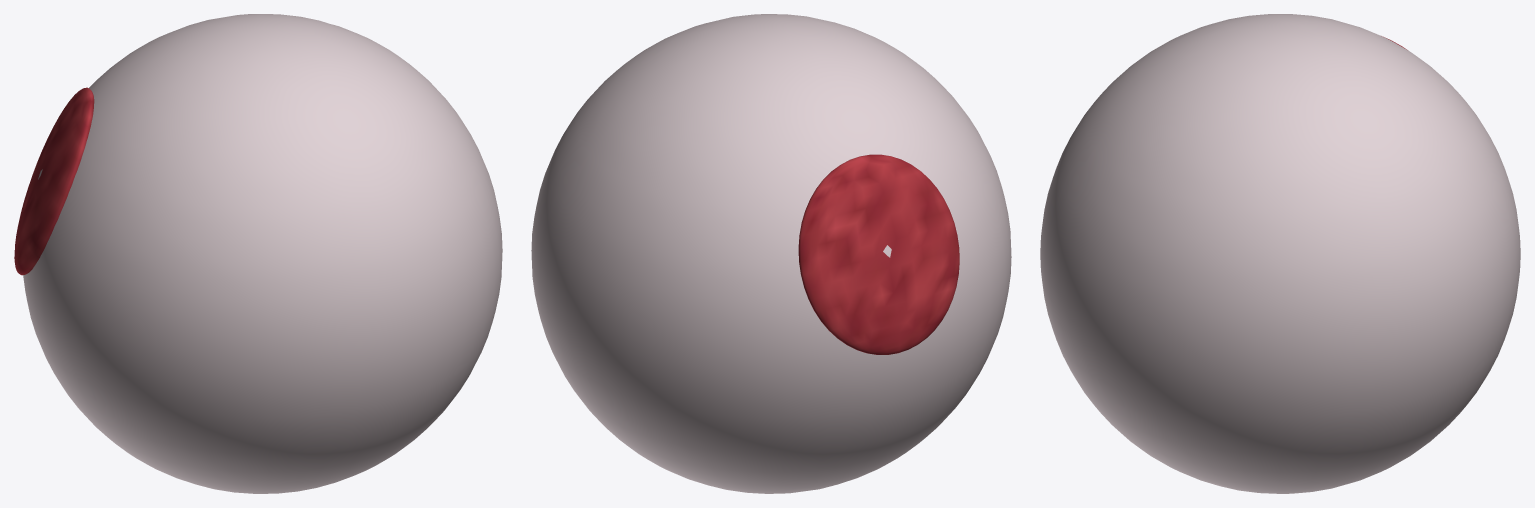
Rendered from hafta_24.glb.
3 renders of one model, left to right at view 1: azimuth 30°, elevation 25°; view 2: azimuth 150°, elevation 25°; view 3: azimuth 270°, elevation 25°, orthographic.
Visible parts, largest first — view 1: Amniyon_kesesi, Plasenta; view 2: Amniyon_kesesi, Plasenta; view 3: Amniyon_kesesi.
Boxes of the visible parts, x1,y1,x2,y2 form: Amniyon_kesesi: (23,14,502,493); Plasenta: (14,87,94,275); Amniyon_kesesi: (531,14,1011,493); Plasenta: (798,154,959,354); Amniyon_kesesi: (1040,14,1520,493).
Bounding box in the file's own units: 1.55 × 1.55 × 1.55.
